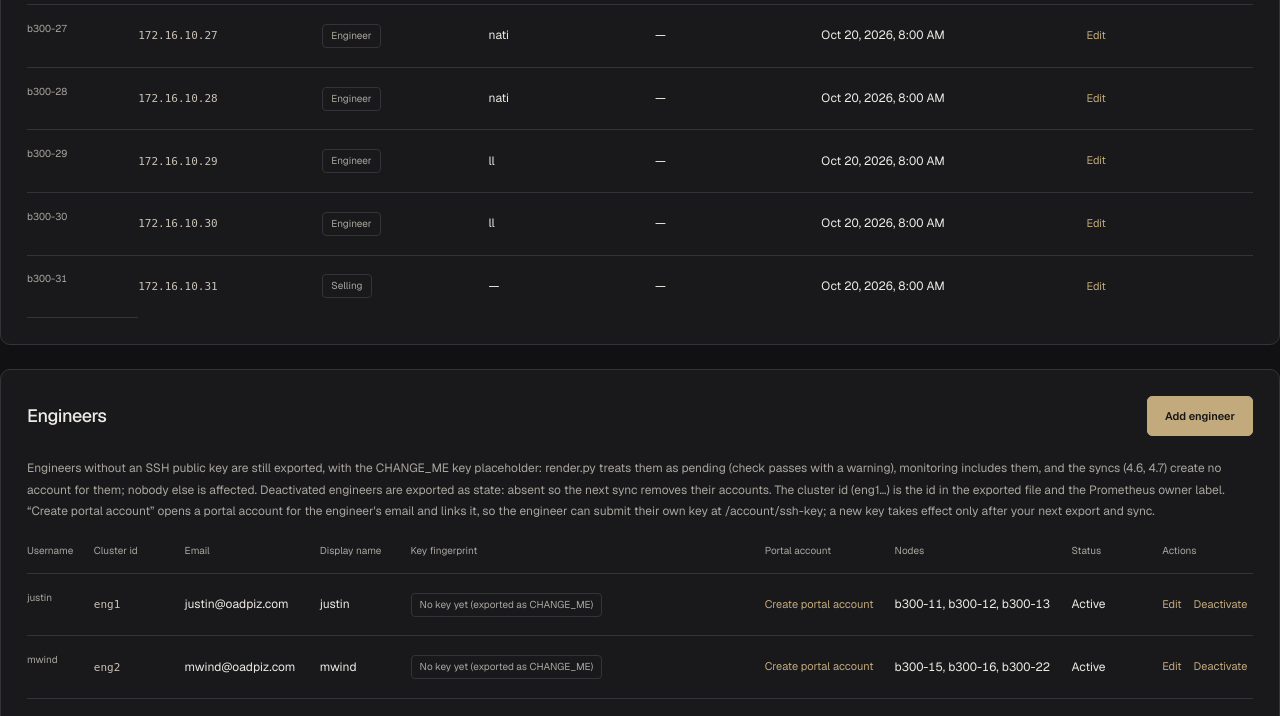
Test: admin node allocation section › adds an engineer with the username taken from the email
The width and height of the screenshot is (1280, 716).
(page scrolled)
Click the button "Add engineer" at (1200, 416), box [1147,396,1253,436]
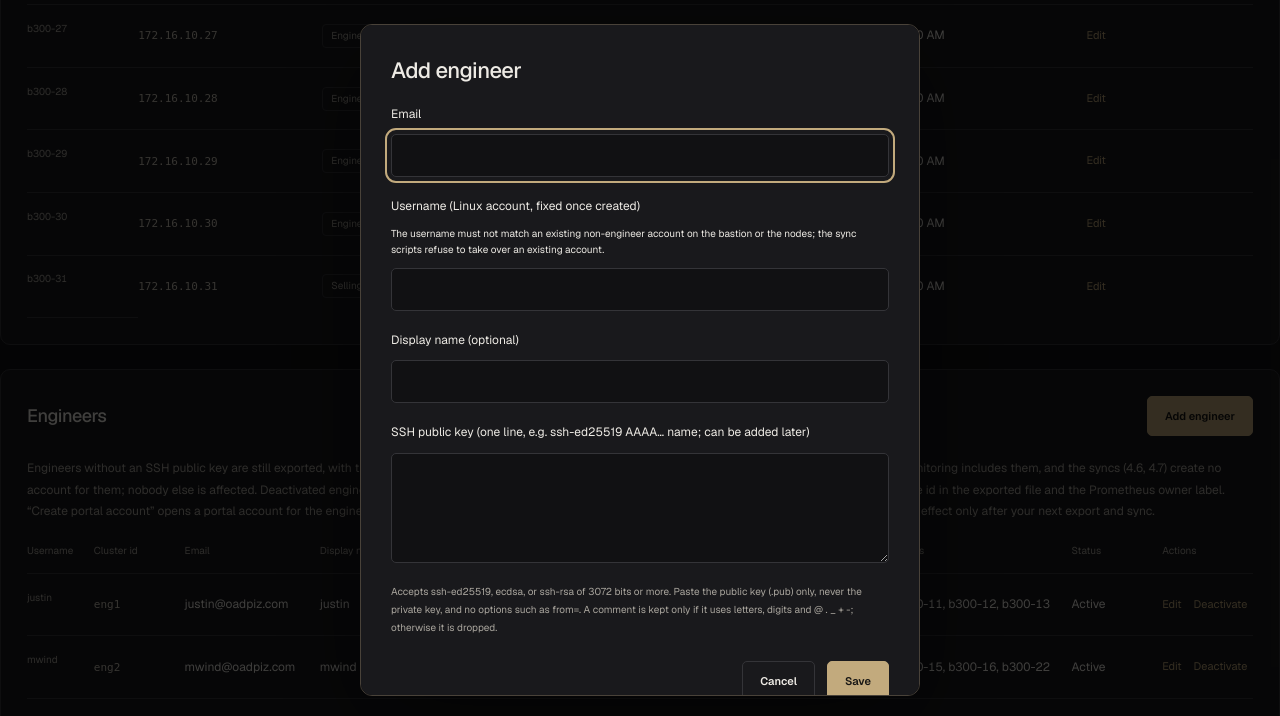
Type "Kim@oadpiz.com" into the field labelled "Email" at (640, 156), box [391,134,889,177]
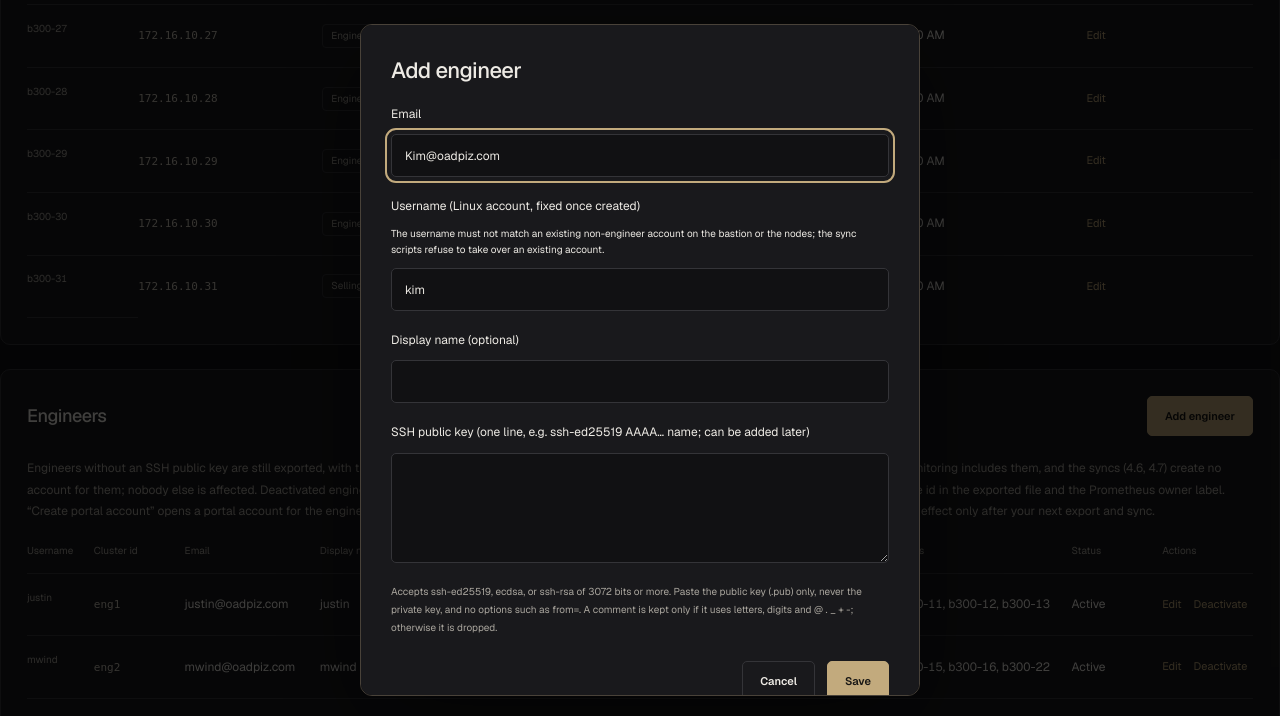
Expected: the field labelled "Username" holds "kim", [391,268,889,311]
Type "ssh-ed25519 AAAAC3Nza kim" into the text box labelled "SSH public key" at (640, 508), box [391,453,889,563]
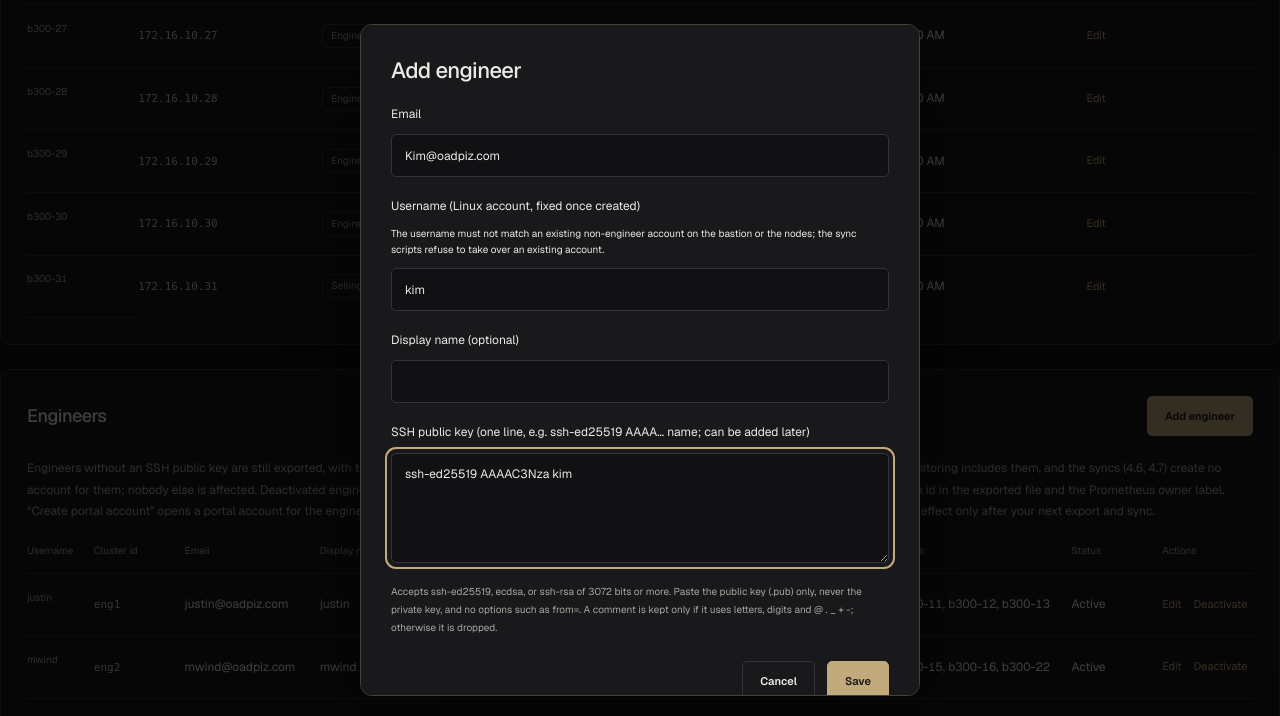
Click the button "Save" at (858, 681), box [827,661,889,701]
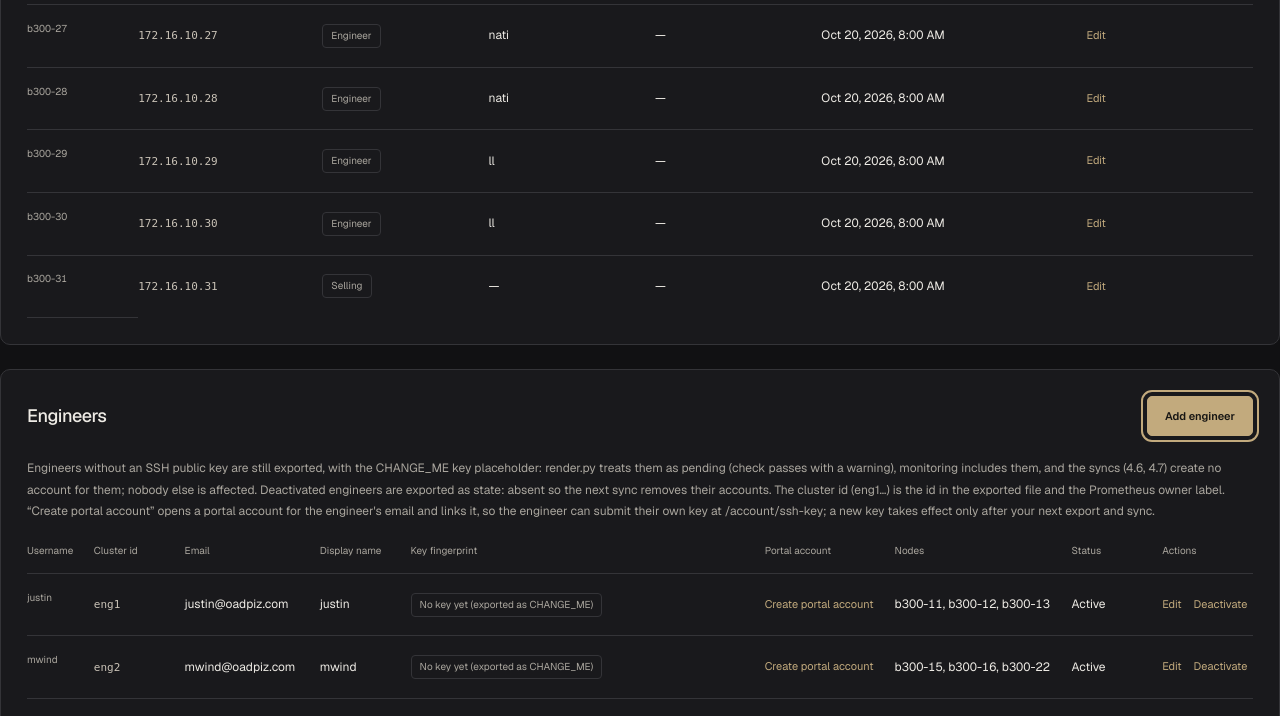
Expected: the dialog is gone
